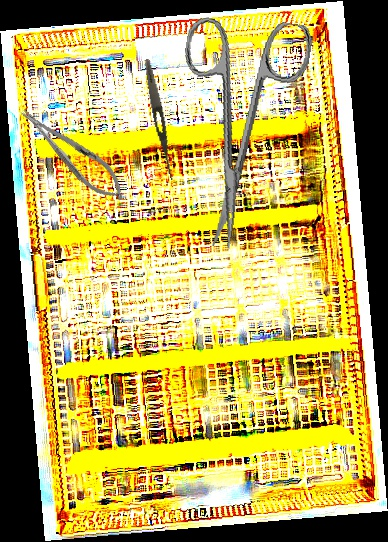Dressing Forceps: (141, 58, 178, 181)
Iris Scissors: (155, 7, 315, 257)
Needle Holder: (11, 97, 135, 211)
